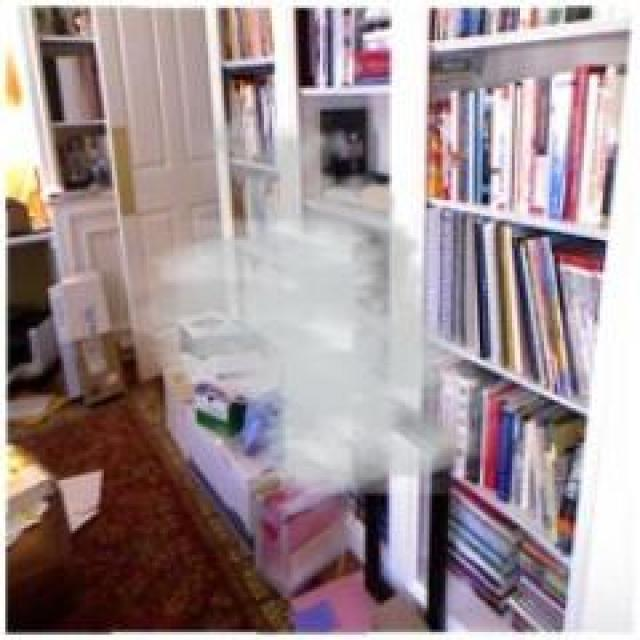Smoke: (148, 110, 485, 505)
